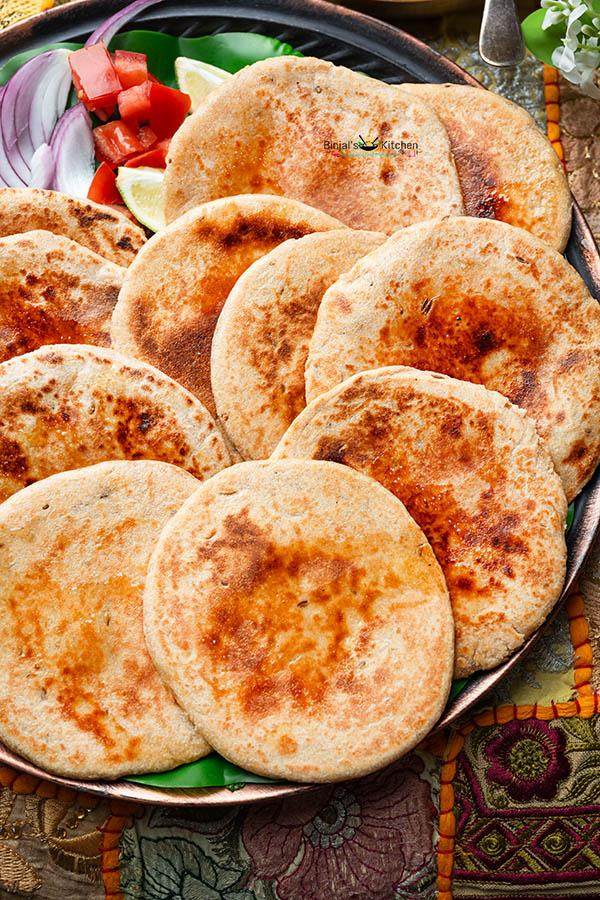bhakri: (271, 378, 567, 669), (163, 451, 434, 760), (178, 36, 540, 264), (3, 451, 242, 784), (311, 216, 600, 445), (173, 58, 432, 257), (3, 346, 224, 512), (138, 211, 360, 375), (11, 226, 119, 350)
